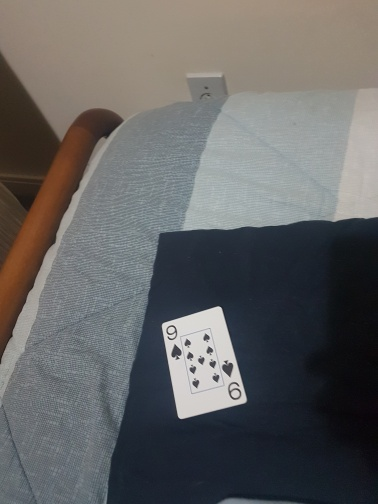nine: (162, 305, 247, 419)
